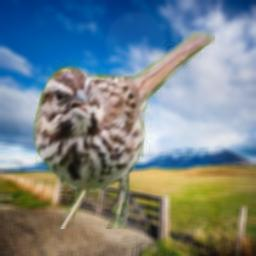Sparrow: (32, 30, 215, 229)
